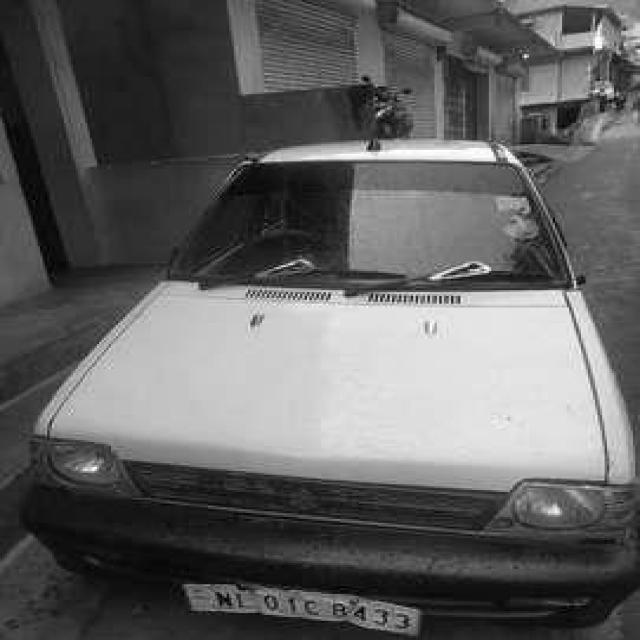car: (23, 129, 640, 640)
license-plate: (189, 580, 430, 632)
